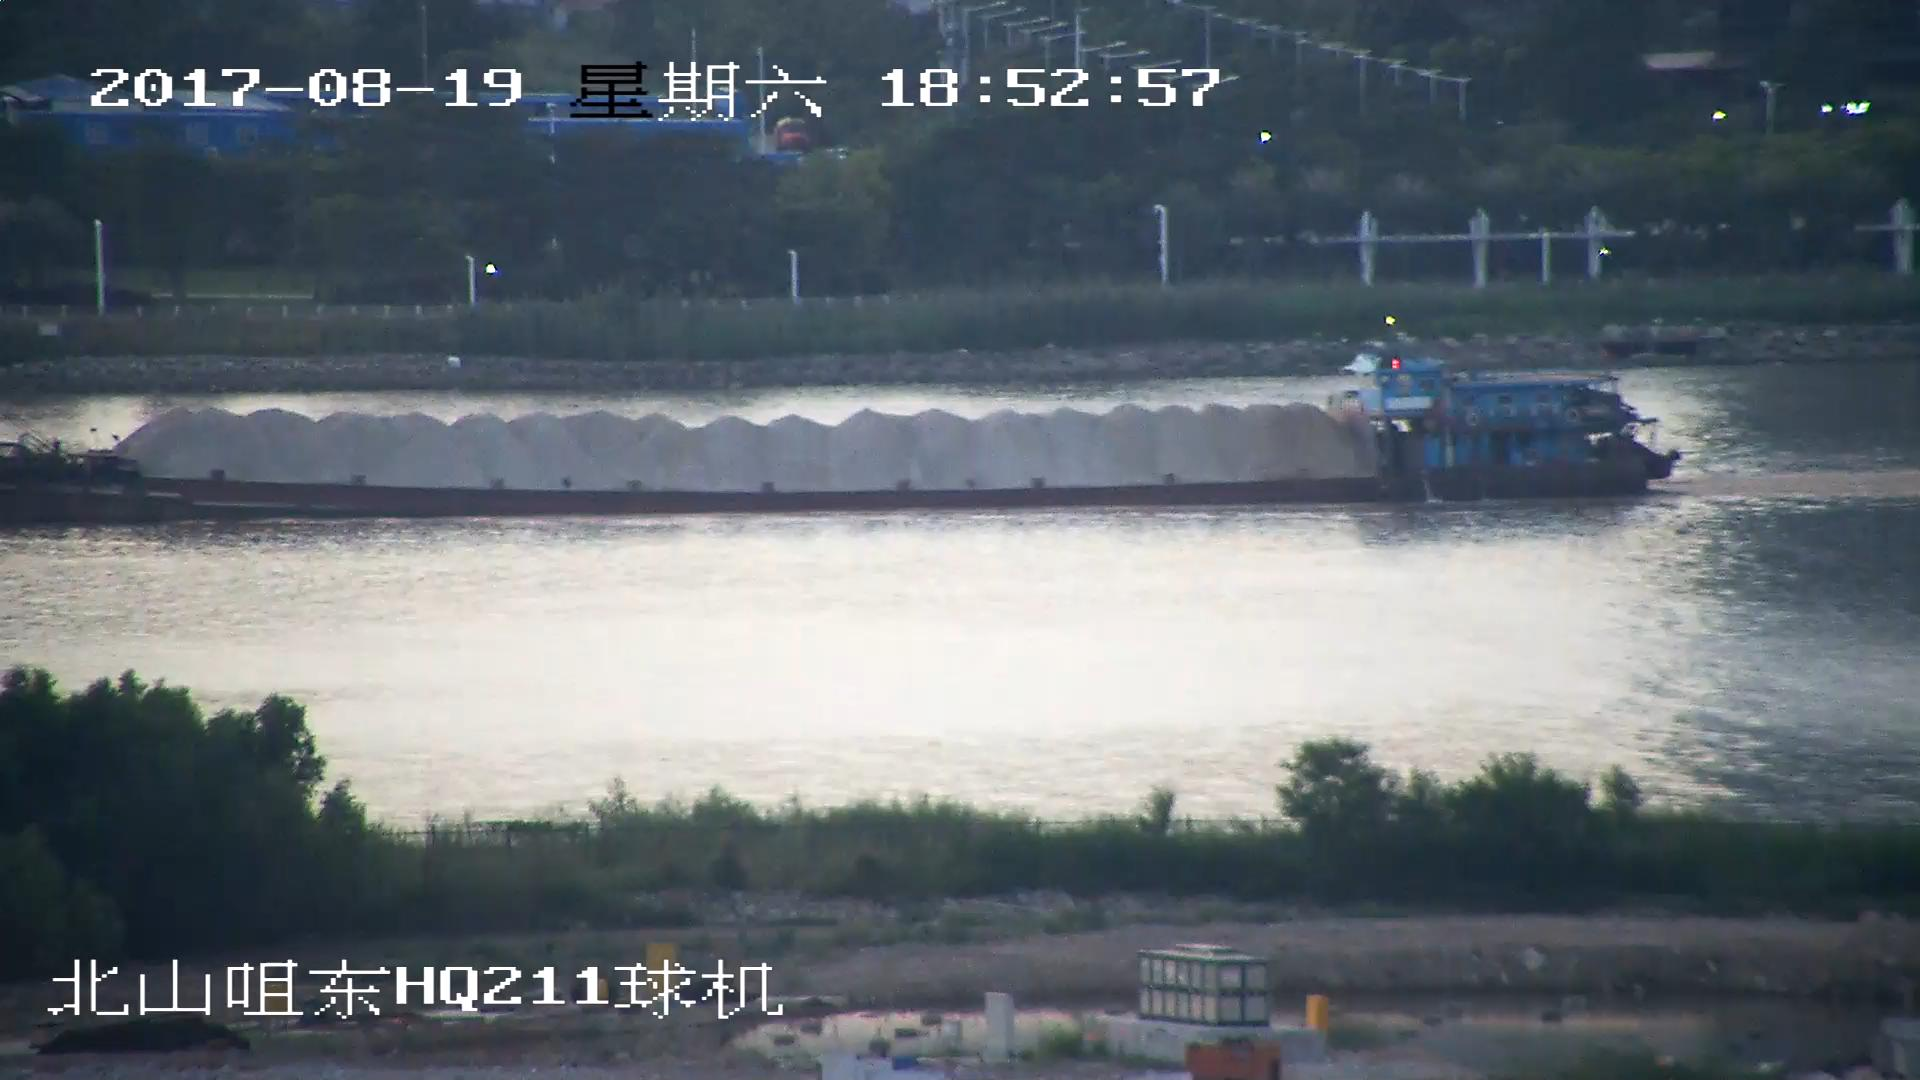ore carrier: (1, 323, 1681, 512)
